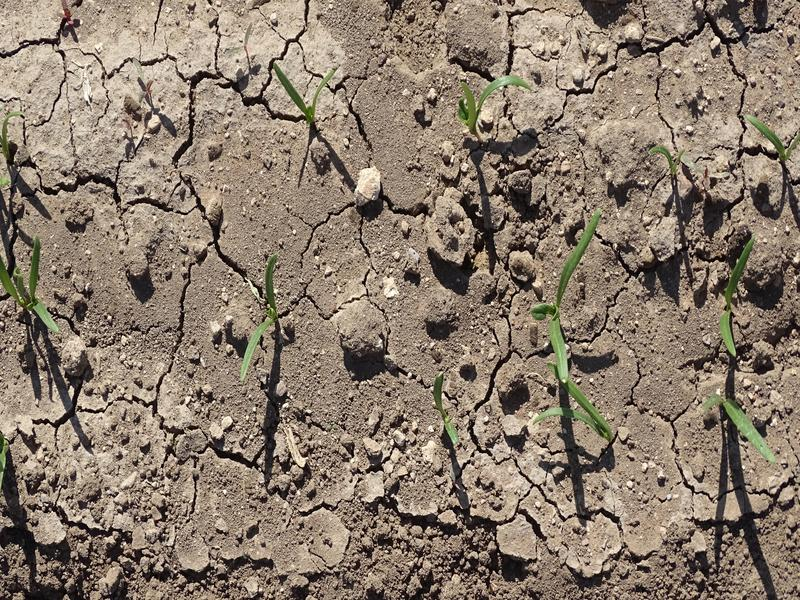Espinaca: (542, 206, 605, 384), (538, 367, 626, 444), (707, 232, 761, 354), (705, 389, 781, 466), (239, 253, 284, 376), (5, 241, 62, 338), (456, 72, 538, 132), (272, 60, 342, 120), (745, 112, 795, 164)
